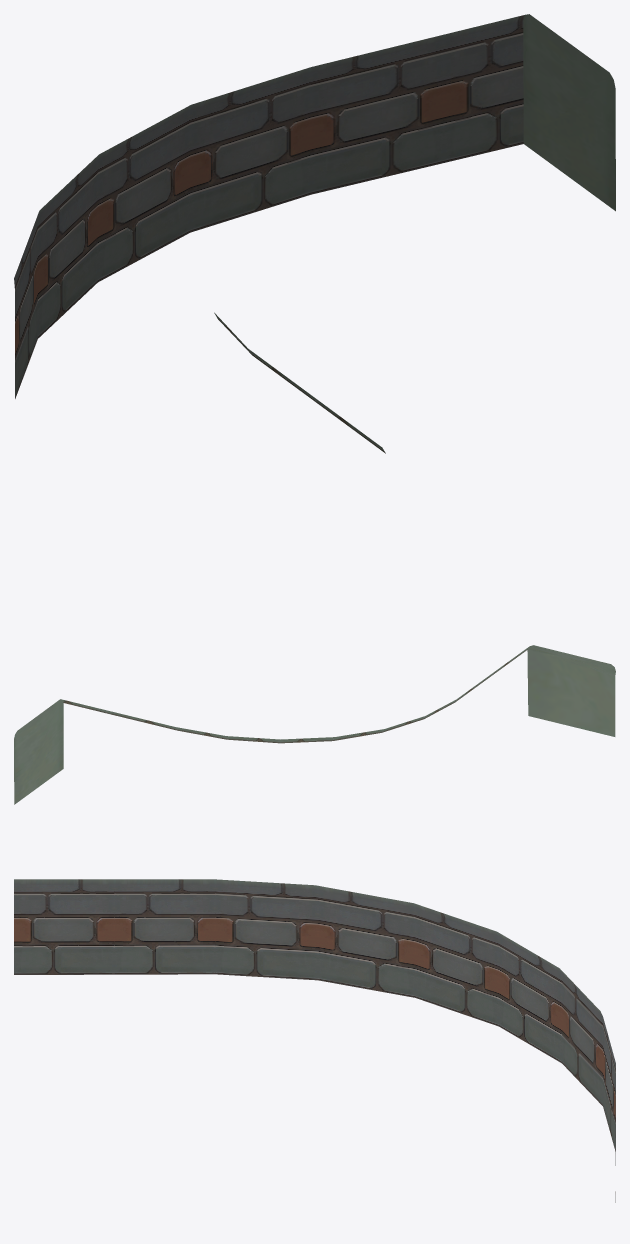
The picture shows the model from 3 angles, top to bottom: view 1: azimuth 30°, elevation 25°; view 2: azimuth 150°, elevation 25°; view 3: azimuth 270°, elevation 25°; orthographic projection. The views are drawn at different scales.
Visible parts, largest first — view 1: Joint_0_Object_0; view 2: Joint_0_Object_0; view 3: Joint_0_Object_0.
Boxes of the visible parts, bbox=[...] form: Joint_0_Object_0: bbox=[14, 14, 615, 453]; Joint_0_Object_0: bbox=[14, 645, 615, 804]; Joint_0_Object_0: bbox=[14, 879, 615, 1202].
Size of the model in its own units: 1857 by 335 by 1852.
Materials: 1 (1 with a texture image).
